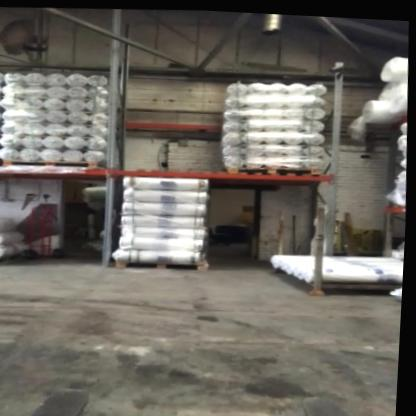vertical_damage: (100, 239, 121, 268)
